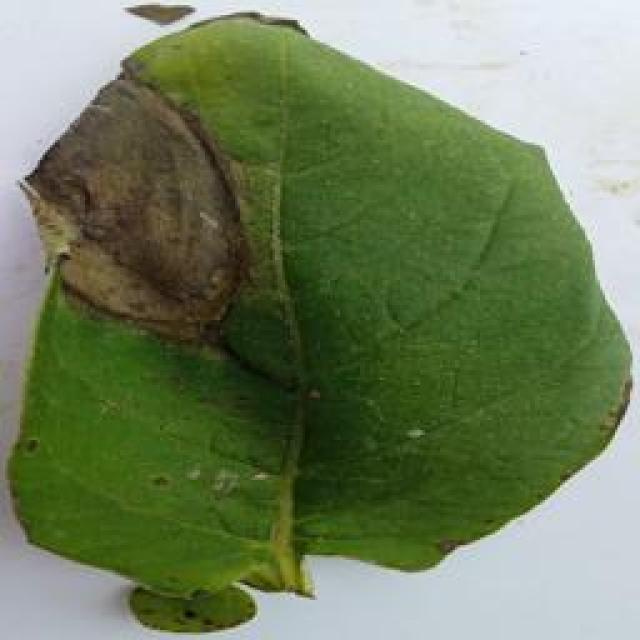Potato_Late_Blight: (10, 14, 622, 631)
